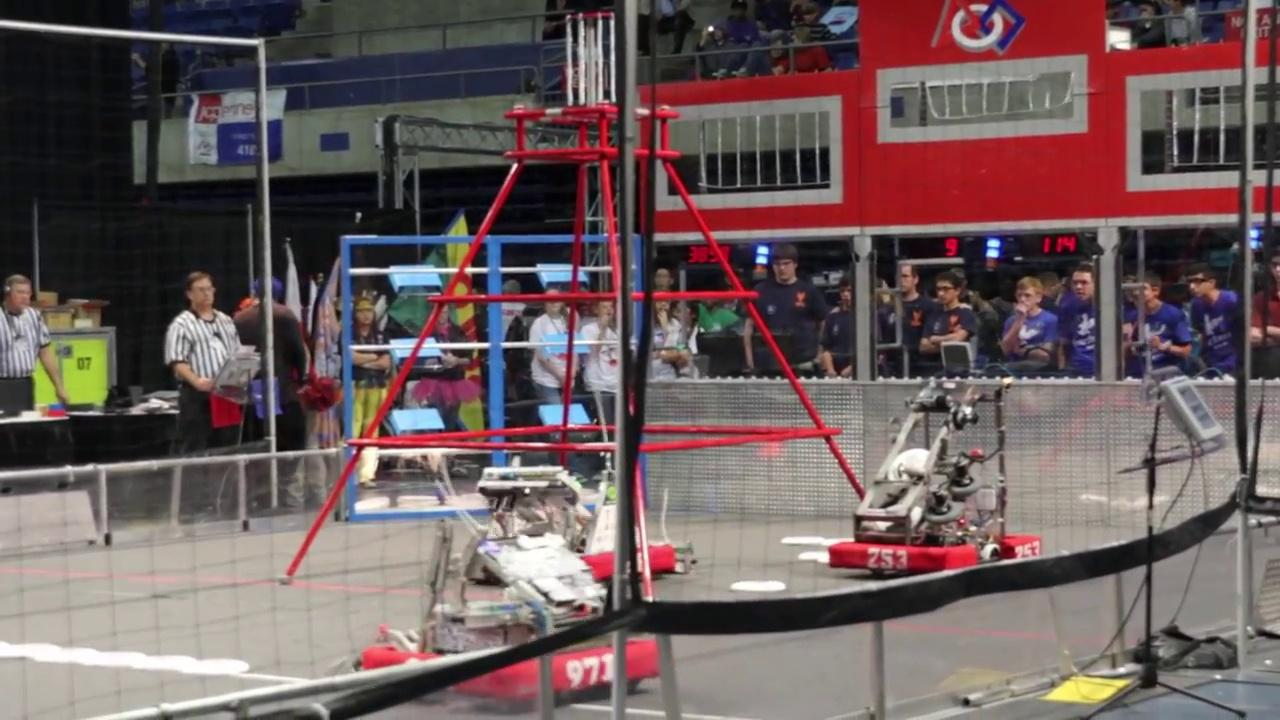robot: (350, 511, 659, 708), (823, 383, 1047, 576), (558, 469, 681, 582)
